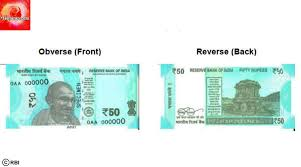fifty: (10, 72, 128, 116)
